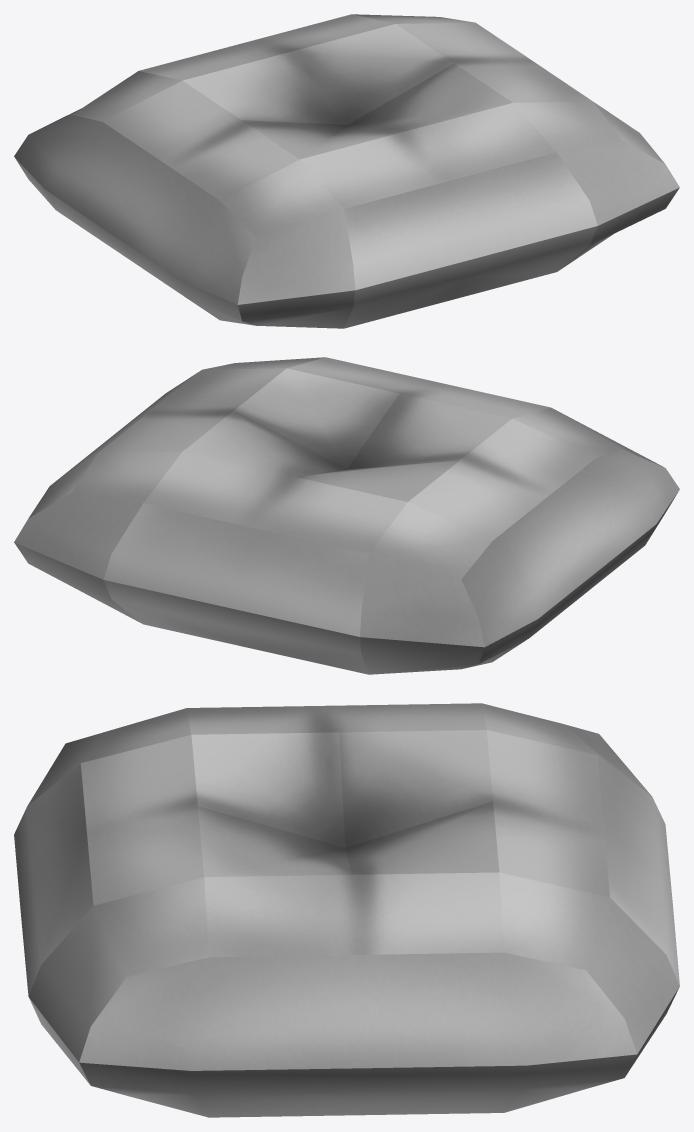
File: Pillow.fbx
The picture shows the model from 3 angles, top to bottom: view 1: azimuth 30°, elevation 25°; view 2: azimuth 150°, elevation 25°; view 3: azimuth 270°, elevation 25°; orthographic projection. The views are drawn at different scales.
Parts seen in each view (by area): view 1: Pillow8; view 2: Pillow8; view 3: Pillow8.
Part boxes in pixels (bbox=[...]): Pillow8: bbox=[14, 14, 679, 328]; Pillow8: bbox=[14, 357, 679, 674]; Pillow8: bbox=[14, 703, 679, 1117].
Size of the model in its own units: 7.73 by 2.4 by 6.77.
1 material, 1 textured.
